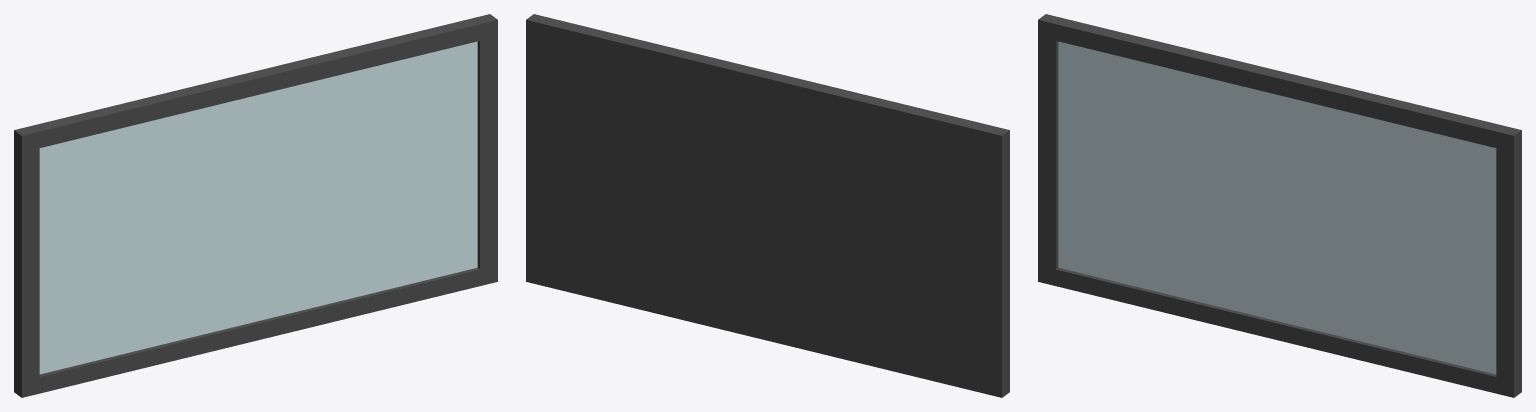
The model's file is Itr_Obj_Monitor_LCD_Screen_On_05.FBX.
3 renders of one model, left to right at view 1: azimuth 30°, elevation 25°; view 2: azimuth 150°, elevation 25°; view 3: azimuth 330°, elevation 25°, orthographic.
Parts seen in each view (by area): view 1: Itr_Obj_Monitor_LCD_Screen_On_05; view 2: Itr_Obj_Monitor_LCD_Screen_On_05; view 3: Itr_Obj_Monitor_LCD_Screen_On_05.
Boxes of the visible parts, x1=… form: Itr_Obj_Monitor_LCD_Screen_On_05: x1=14, y1=14, x2=497, y2=397; Itr_Obj_Monitor_LCD_Screen_On_05: x1=526, y1=14, x2=1009, y2=397; Itr_Obj_Monitor_LCD_Screen_On_05: x1=1038, y1=14, x2=1521, y2=397.
Size of the model in its own units: 66.79 by 35.13 by 1.92.
